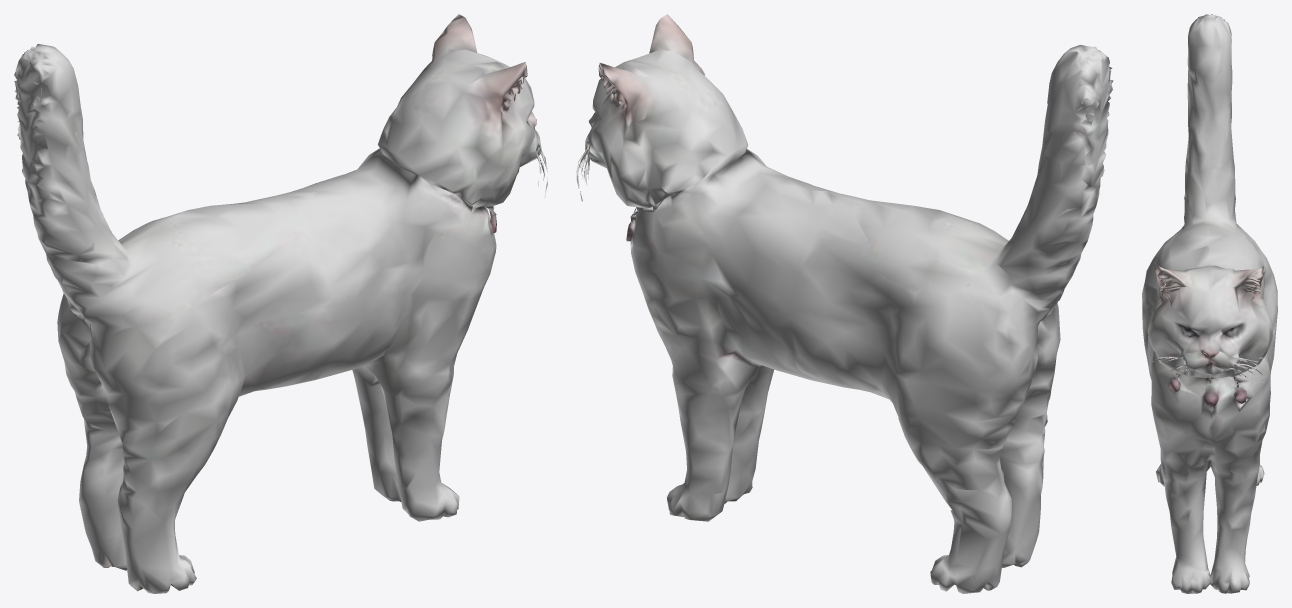
File: SALADCAT-lo.glb
The picture shows the model from 3 angles, left to right: view 1: azimuth 30°, elevation 25°; view 2: azimuth 150°, elevation 25°; view 3: azimuth 270°, elevation 25°; orthographic projection. The views are drawn at different scales.
Visible parts, largest first — view 1: tripo_node_549d4854-9350-4fdc-b011-951c651a1bee; view 2: tripo_node_549d4854-9350-4fdc-b011-951c651a1bee; view 3: tripo_node_549d4854-9350-4fdc-b011-951c651a1bee.
Boxes of the visible parts, x1,y1,x2,y2 form: tripo_node_549d4854-9350-4fdc-b011-951c651a1bee: [14, 14, 547, 593]; tripo_node_549d4854-9350-4fdc-b011-951c651a1bee: [576, 14, 1113, 593]; tripo_node_549d4854-9350-4fdc-b011-951c651a1bee: [1142, 14, 1277, 593].
Size of the model in its own units: 0.9787 by 1 by 0.2871.
1 material, 1 textured.
